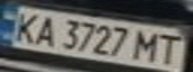2: (90, 21, 115, 56)
3: (54, 17, 81, 51)
7: (109, 24, 136, 60), (75, 19, 96, 54)
A: (30, 14, 60, 47)
K: (6, 10, 45, 44)
M: (130, 28, 163, 63)
T: (151, 32, 187, 65)
